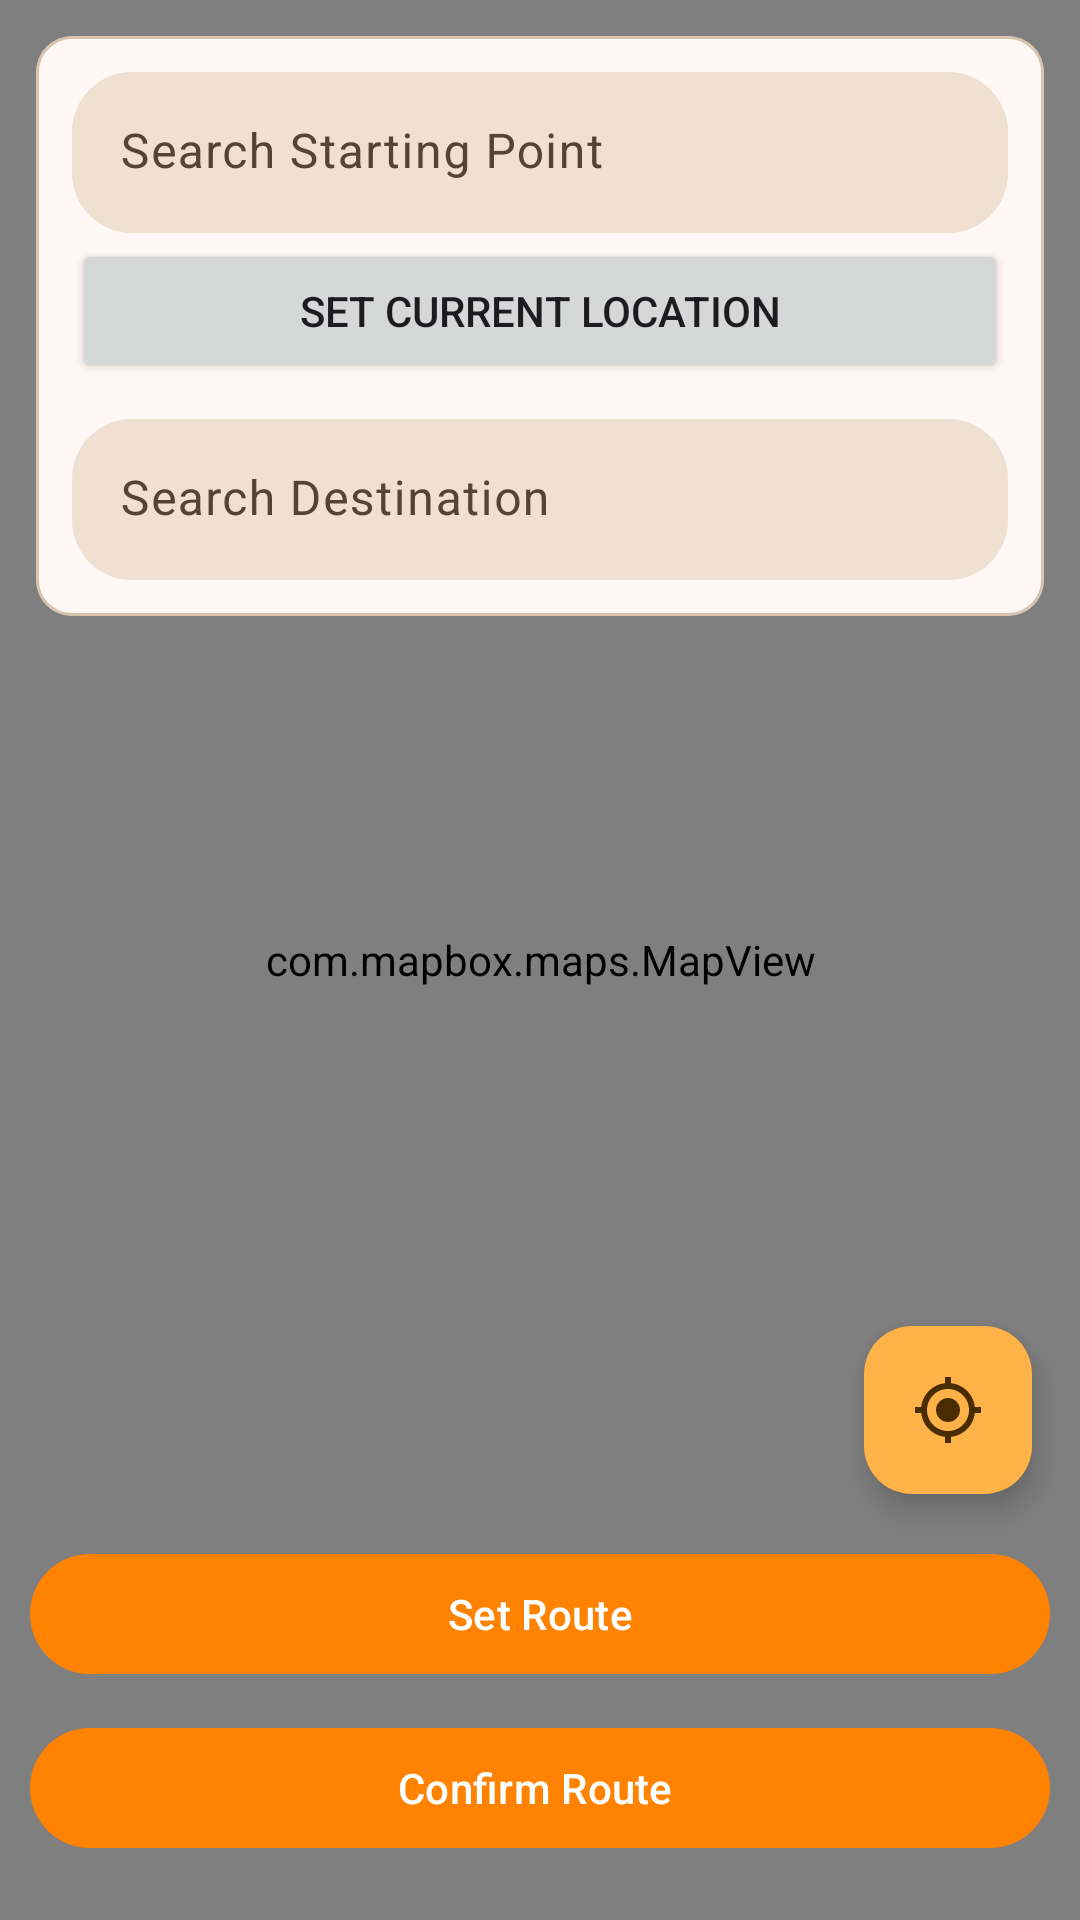

Locate icon controls on the screen. Image size 1080*1920, boxes as {"left": x1, "top": y1, "right": x2, "bottom": y2}.
location: {"left": 864, "top": 1326, "right": 1032, "bottom": 1494}
